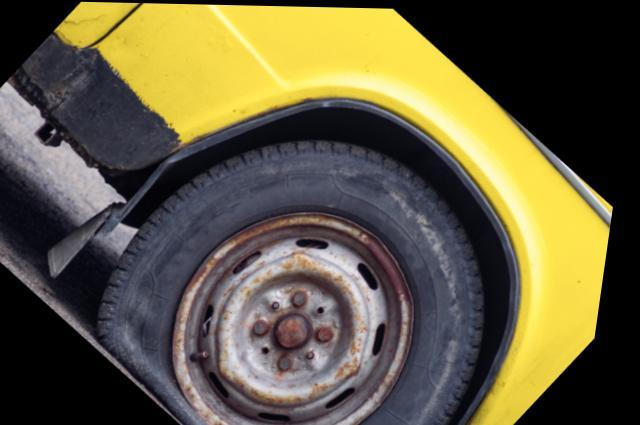tire flat: (106, 133, 492, 425)
